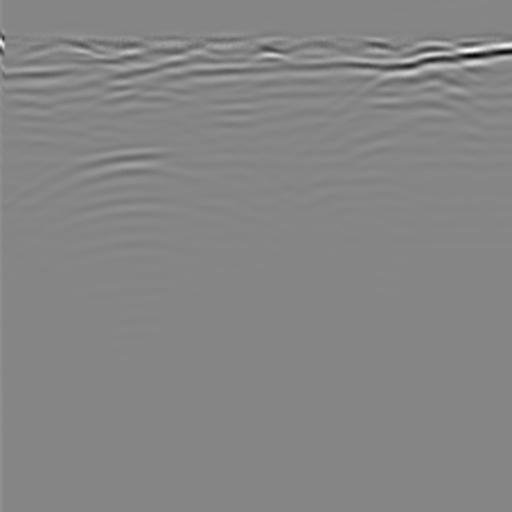hyperbola: (17, 140, 285, 237)
